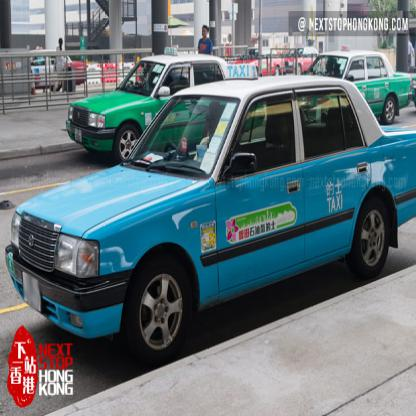taxi: (5, 59, 416, 367), (66, 44, 232, 164)
